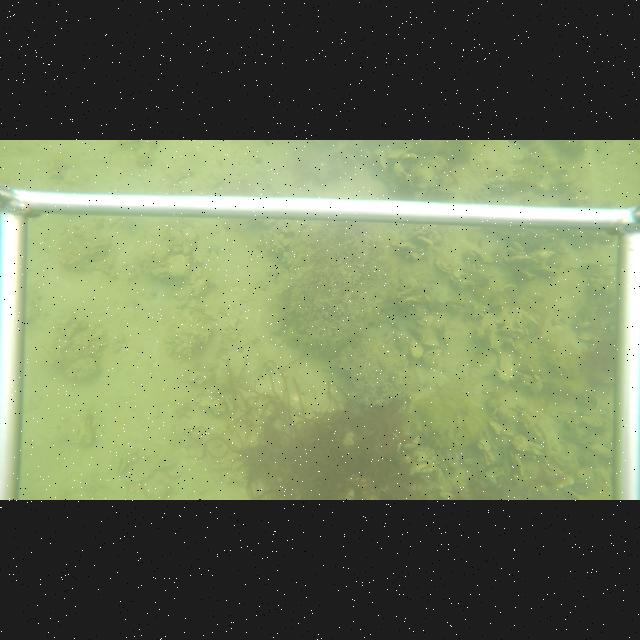Oyster-Closed: (165, 254, 189, 280), (586, 442, 612, 458), (373, 149, 389, 174), (502, 254, 532, 265), (512, 269, 537, 280), (485, 420, 502, 436), (387, 148, 407, 160), (400, 251, 423, 261), (414, 235, 433, 245), (454, 281, 476, 289), (433, 188, 455, 196)
Oyster-Open: (462, 191, 482, 203)
